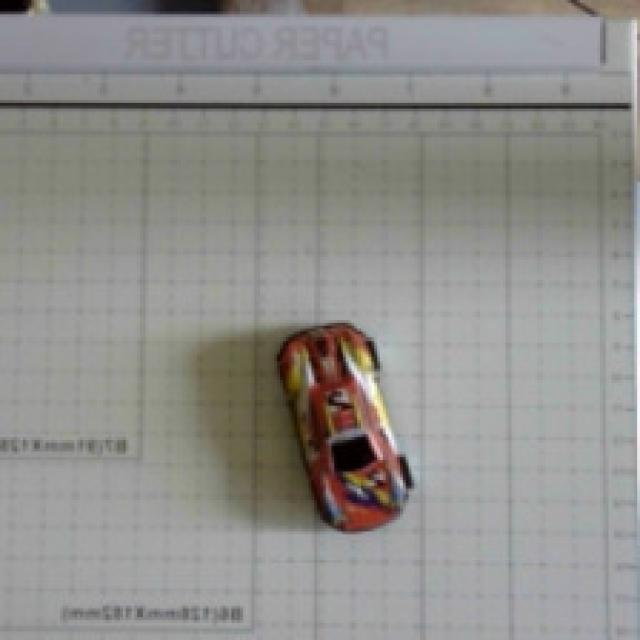Red Car: (198, 286, 497, 560), (222, 328, 476, 558)
